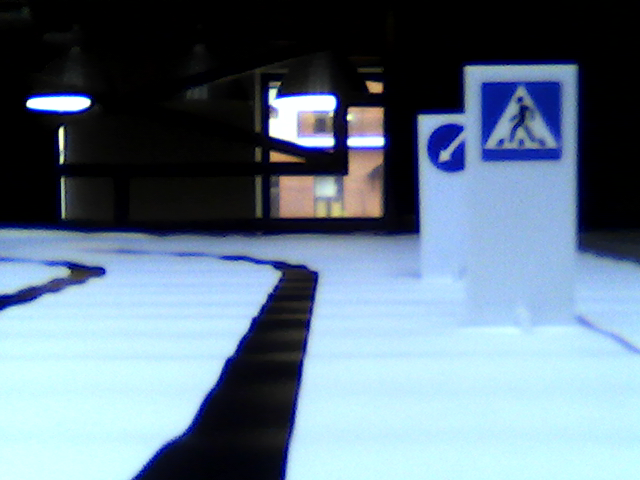pesh: (479, 82, 564, 160)
prep: (427, 123, 469, 175)
